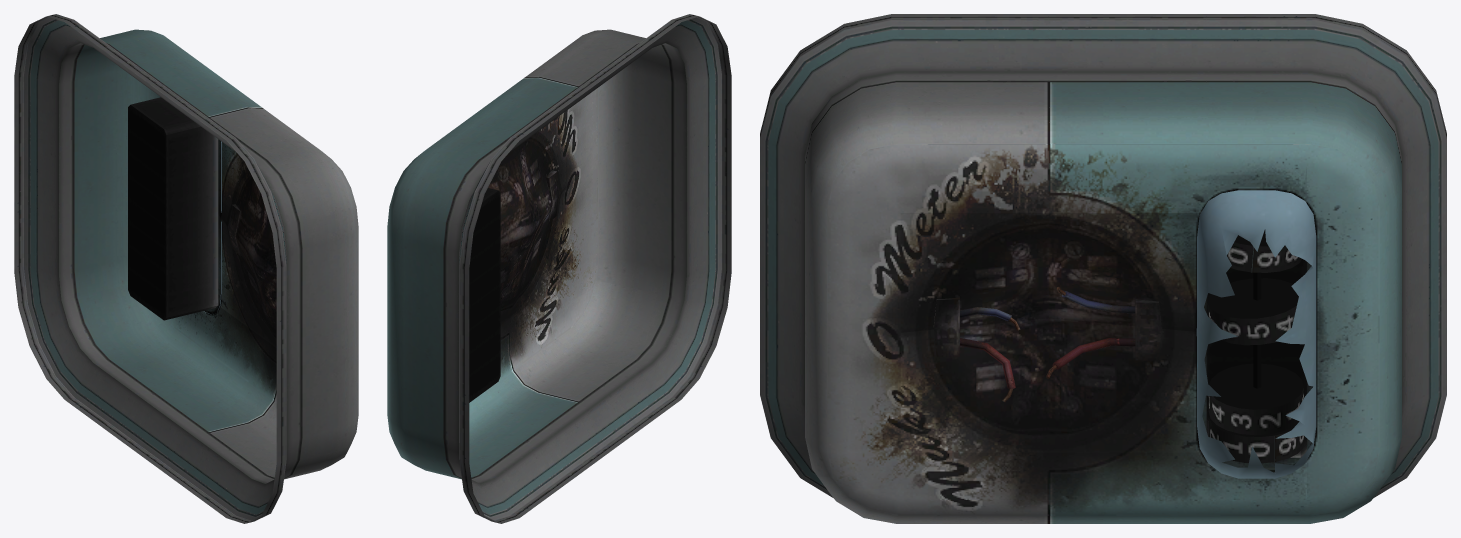
The model's file is nt_2020_wall_meter_dest_LOD0.obj.
3 views of the same model, side by side, from view 1: azimuth 30°, elevation 25°; view 2: azimuth 150°, elevation 25°; view 3: azimuth 270°, elevation 25° (orthographic). The views are drawn at different scales.
Parts seen in each view (by area): view 1: mtl_nt_2020_wall_meter_01_dest; view 2: mtl_nt_2020_wall_meter_01_dest; view 3: mtl_nt_2020_wall_meter_01_dest, glass_clear_model, mtl_nt_2020_wall_meter_01.
Part boxes in pixels (x1,y1,x2,y2): mtl_nt_2020_wall_meter_01_dest: (14, 14, 358, 523); mtl_nt_2020_wall_meter_01_dest: (387, 14, 731, 523); mtl_nt_2020_wall_meter_01_dest: (760, 14, 1446, 523); glass_clear_model: (1196, 190, 1316, 478); mtl_nt_2020_wall_meter_01: (1207, 229, 1304, 463).
Size of the model in its own units: 14.27 by 35.66 by 44.91.
